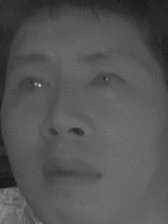eye: (11, 73, 52, 98), (85, 69, 126, 93)
mouth: (39, 154, 104, 191)
